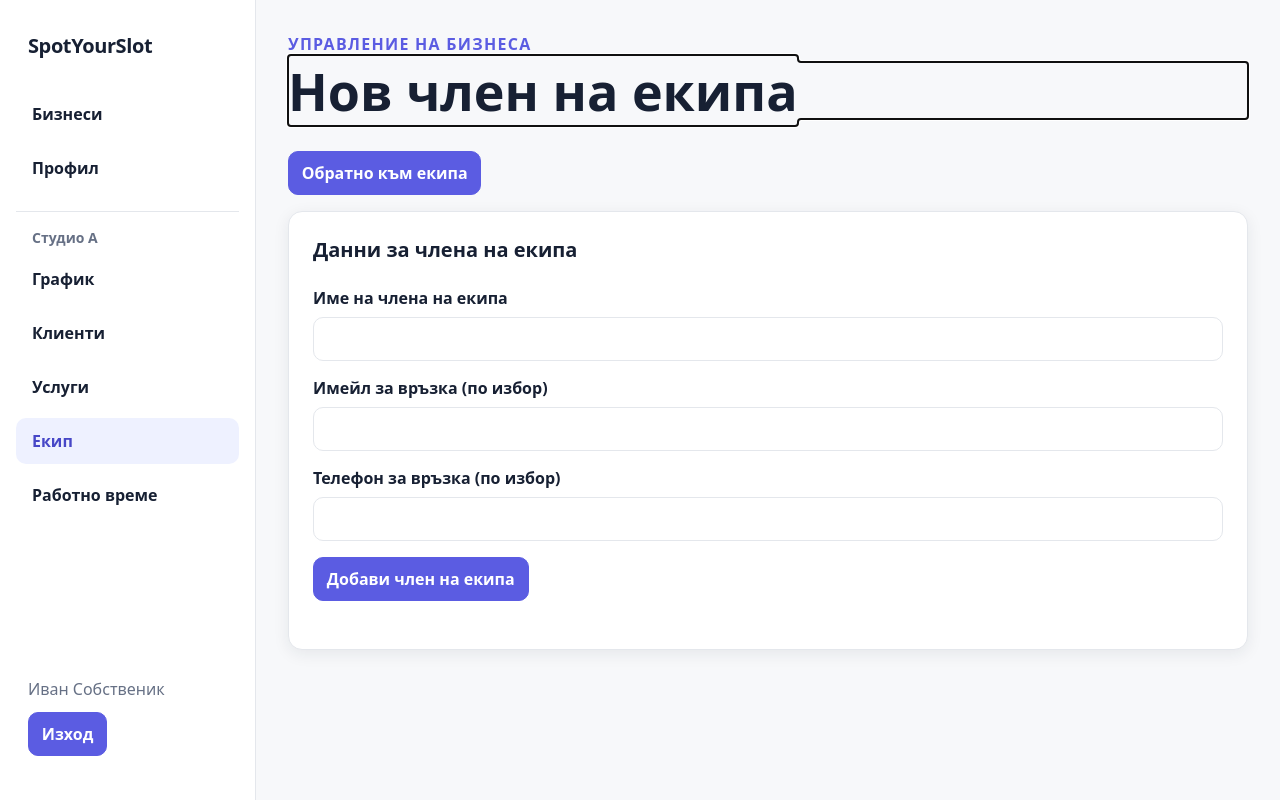
Test: a lost Business context on every Business-scoped screen › Staff create: a mutation that finds the context lost recovers, but only after the guard allows it
Type "Мария" into the field labelled "Име на члена на екипа" at (768, 339), box [313,317,1223,361]
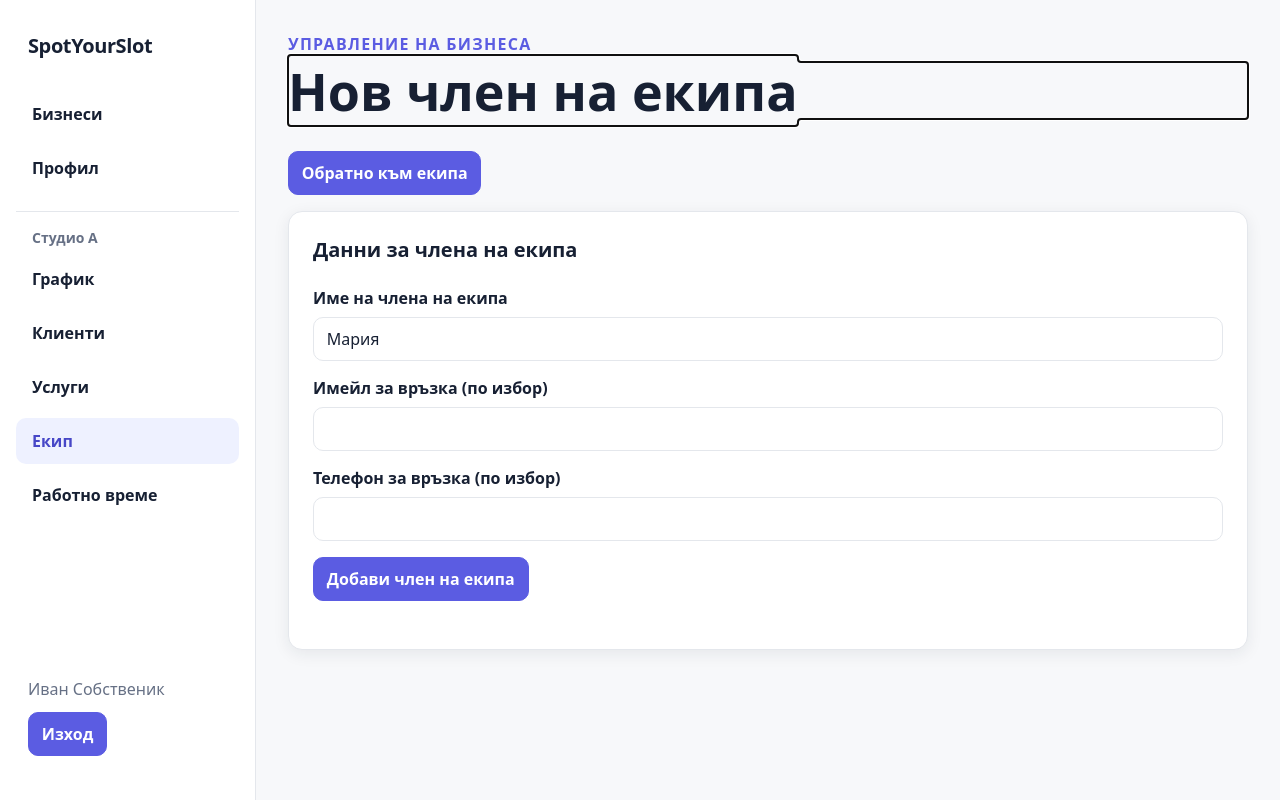
Click the button "Добави член на екипа" at (421, 579), box [313,557,528,601]
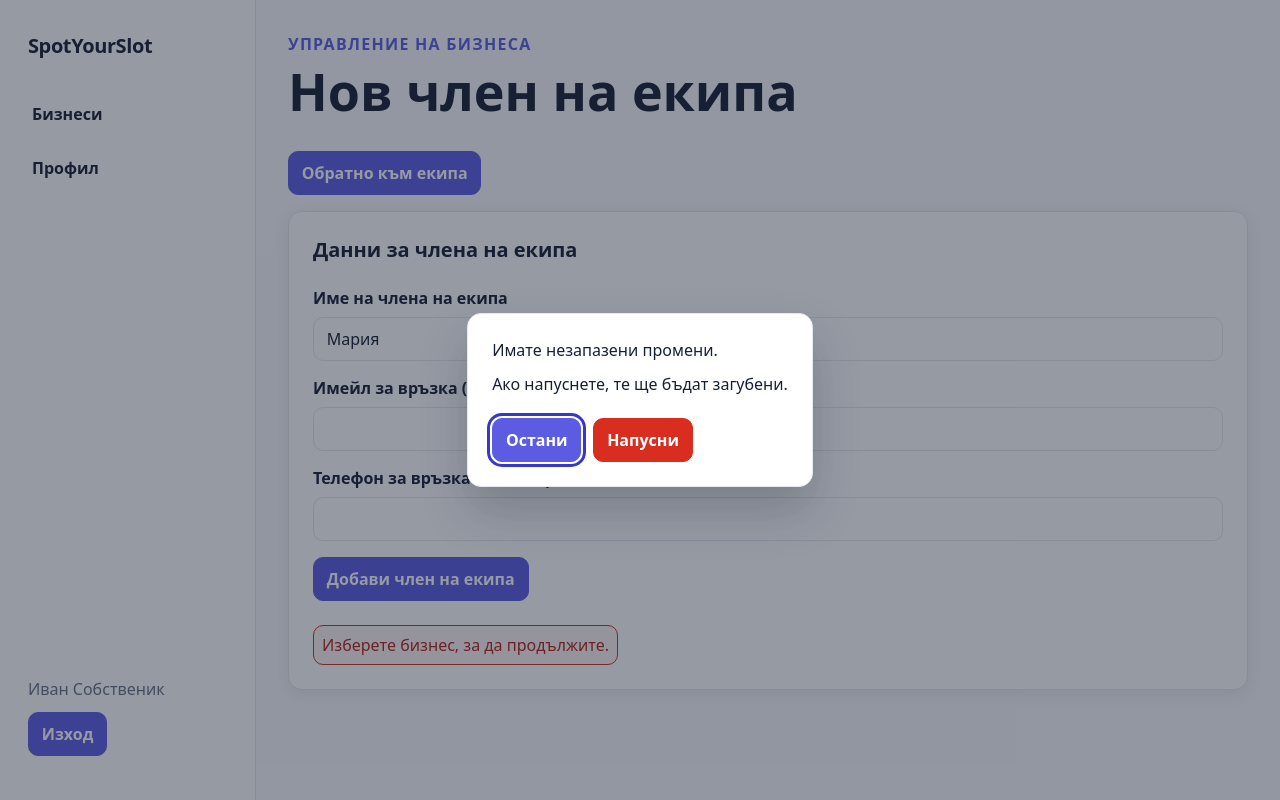
Expected: the dialog shows "Имате незапазени промени.", [492,339,718,361]
Expected: the link "Клиенти" is gone
Click the button "Остани" at (537, 440), box [492,418,581,462]
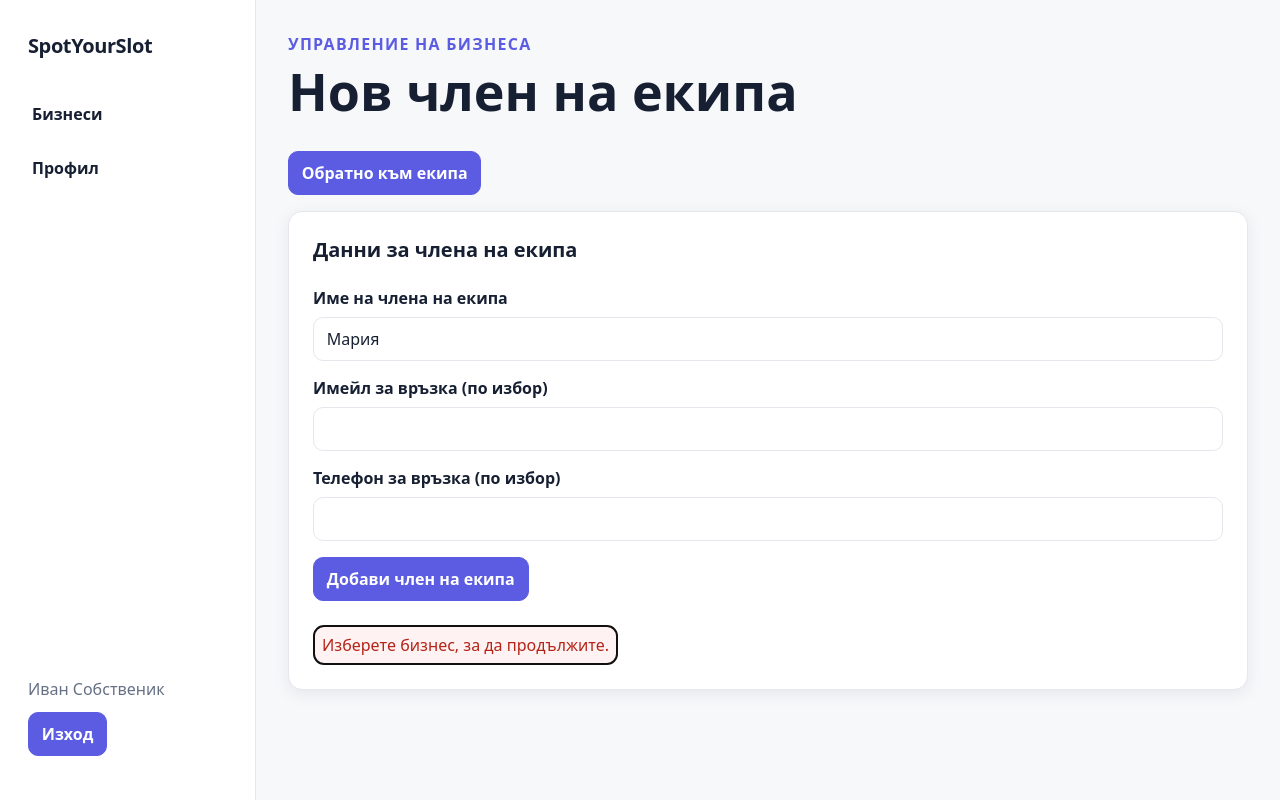
Expected: the dialog is gone
Click the link "Бизнеси" at (67, 114), box [32,103,102,125]
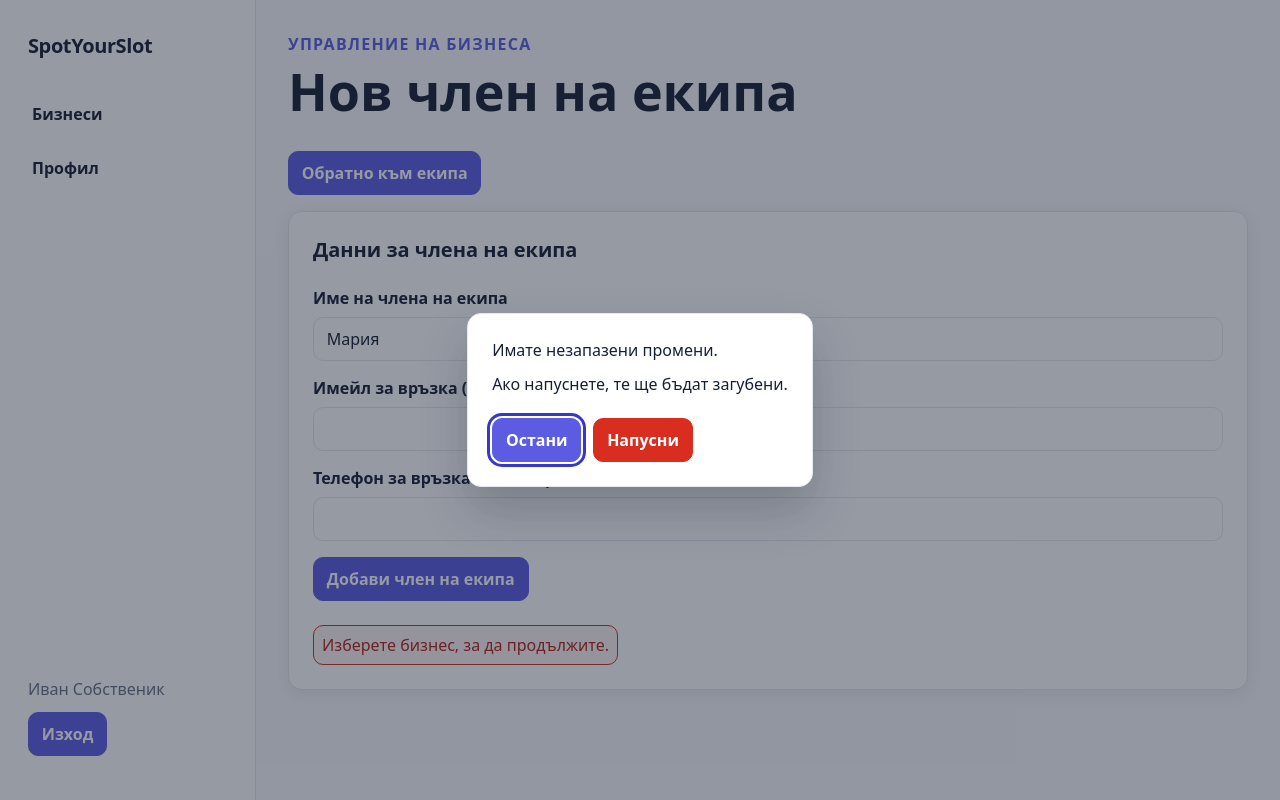
Click the button "Напусни" at (643, 440), box [593,418,693,462]
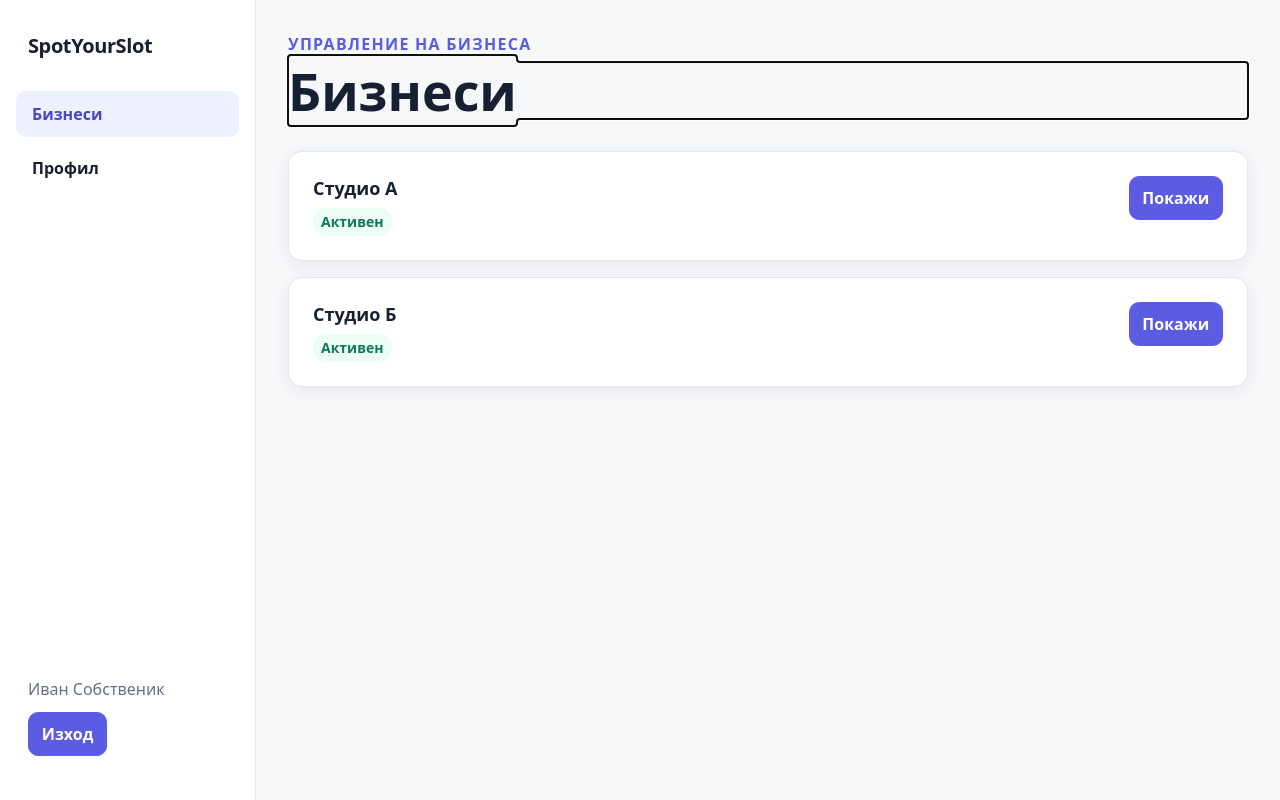
Expected: the heading "Бизнеси" is shown, [288,55,517,126]
